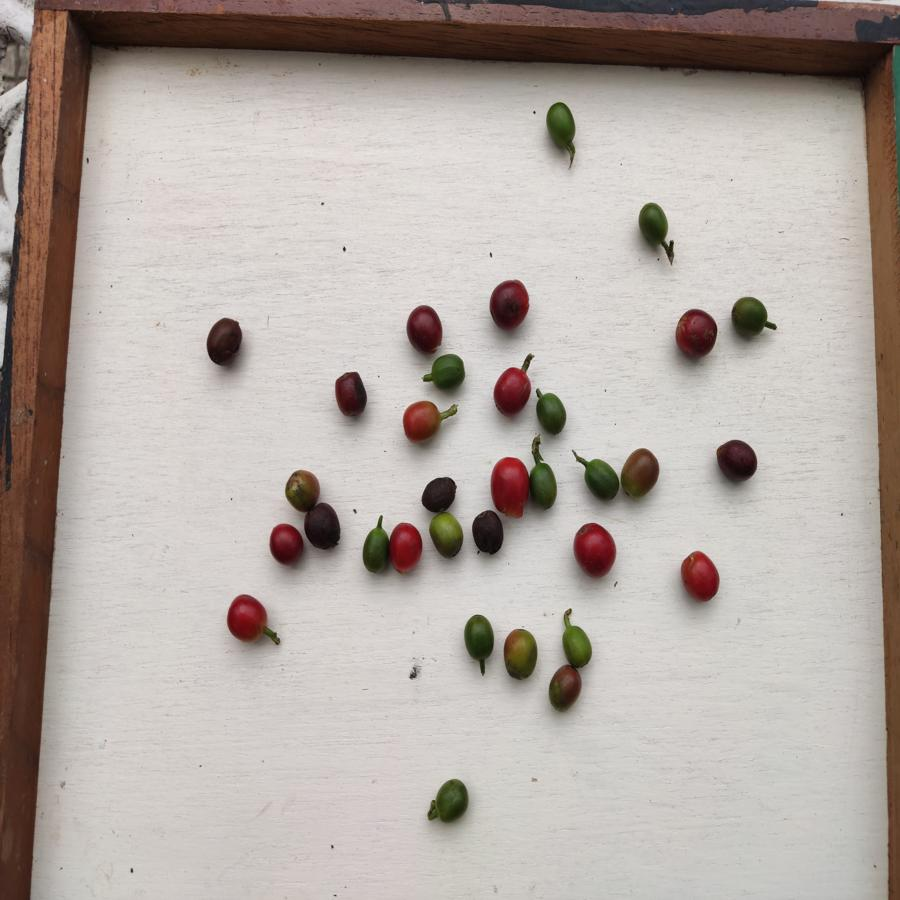Inmaduro: (541, 99, 581, 149), (427, 511, 467, 558), (731, 290, 767, 339), (638, 200, 673, 250), (583, 457, 621, 502), (529, 459, 560, 513), (435, 777, 470, 823), (465, 613, 495, 665), (535, 391, 567, 437), (362, 527, 389, 577), (563, 625, 593, 667), (431, 353, 465, 389)
Maduro: (575, 520, 619, 578), (676, 549, 724, 602), (490, 454, 528, 517), (224, 590, 269, 641), (387, 517, 424, 574), (495, 362, 531, 419), (403, 400, 441, 443), (269, 523, 305, 564)
Pinton: (619, 443, 665, 497), (502, 627, 538, 679), (283, 467, 323, 511), (549, 665, 584, 709)
Sobremaduro: (673, 303, 721, 361), (488, 276, 533, 329), (716, 436, 760, 486), (303, 504, 347, 554), (205, 317, 245, 369), (403, 301, 442, 352), (333, 371, 372, 419), (472, 510, 506, 558), (415, 477, 457, 512)
